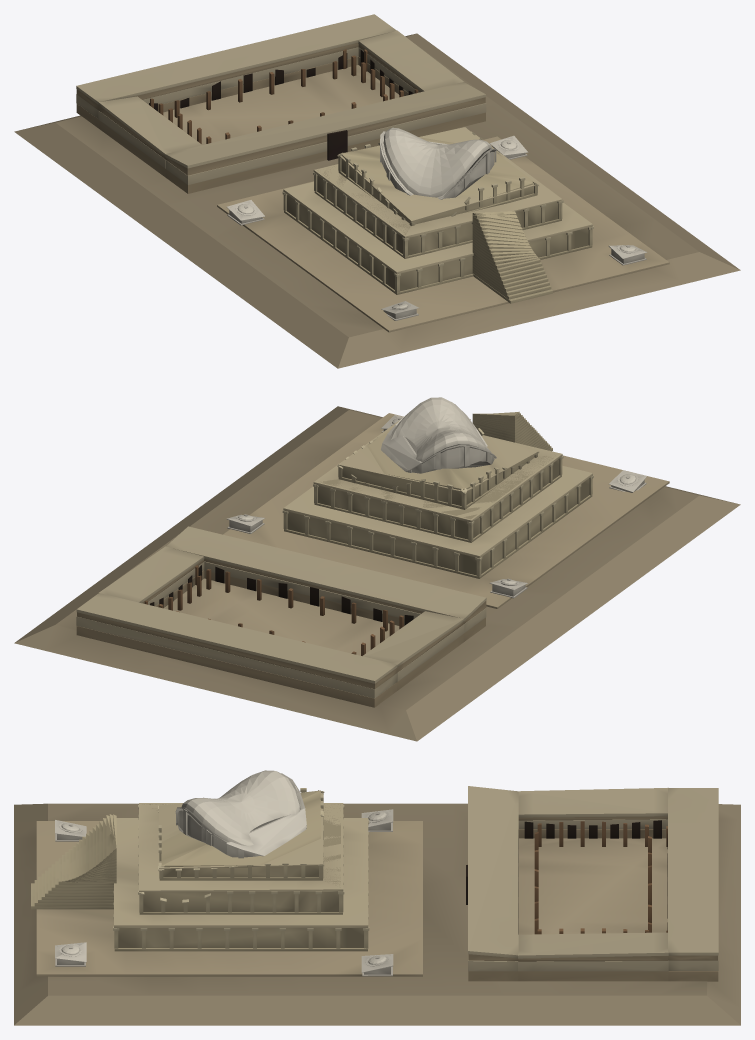
File: kunala-ruin.glb
3 views of the same model, one above another, from view 1: azimuth 30°, elevation 25°; view 2: azimuth 150°, elevation 25°; view 3: azimuth 270°, elevation 25° (orthographic). The views are drawn at different scales.
Parts seen in each view (by area): view 1: p0_ridge, p2_monastery, p1_stupa; view 2: p0_ridge, p2_monastery, p1_stupa; view 3: p0_ridge, p2_monastery, p1_stupa.
Boxes of the visible parts, x1,y1,x2,y2 form: p0_ridge: (14, 33, 740, 368); p2_monastery: (76, 14, 647, 320); p1_stupa: (282, 127, 593, 303); p0_ridge: (14, 406, 740, 741); p2_monastery: (76, 415, 647, 707); p1_stupa: (282, 397, 593, 578); p0_ridge: (14, 803, 740, 1025); p2_monastery: (55, 786, 718, 981); p1_stupa: (31, 770, 369, 951).
Size of the model in its own units: 46 by 12.29 by 64.
